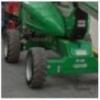tractors: (2, 2, 99, 90)
